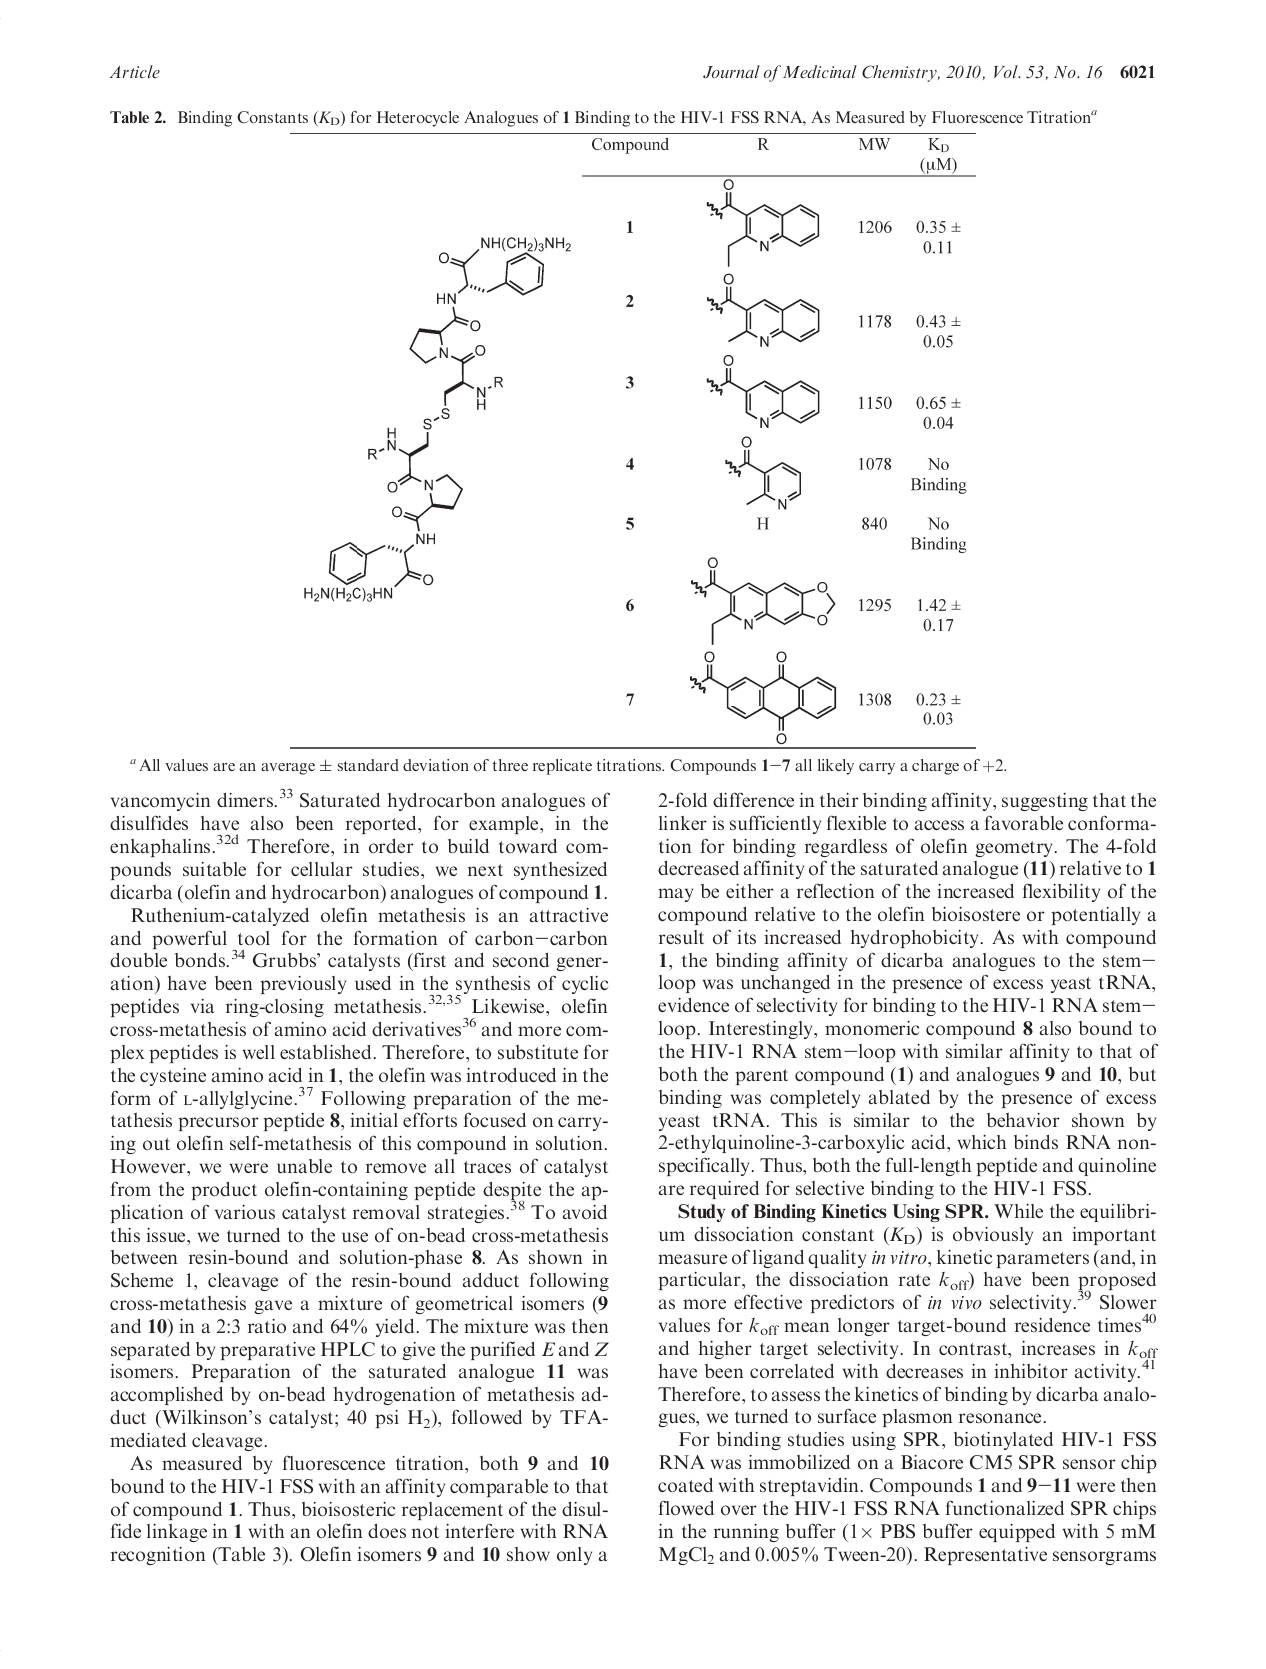exist_molecular: (297, 231, 576, 605), (688, 649, 839, 743), (692, 555, 836, 652), (703, 180, 828, 270), (706, 351, 827, 432), (703, 273, 827, 351), (725, 432, 805, 512)
